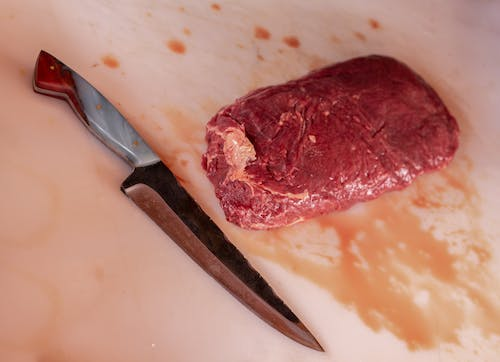blood: (253, 152, 500, 362), (101, 0, 390, 70), (129, 105, 212, 212)
knife: (30, 47, 326, 355)
